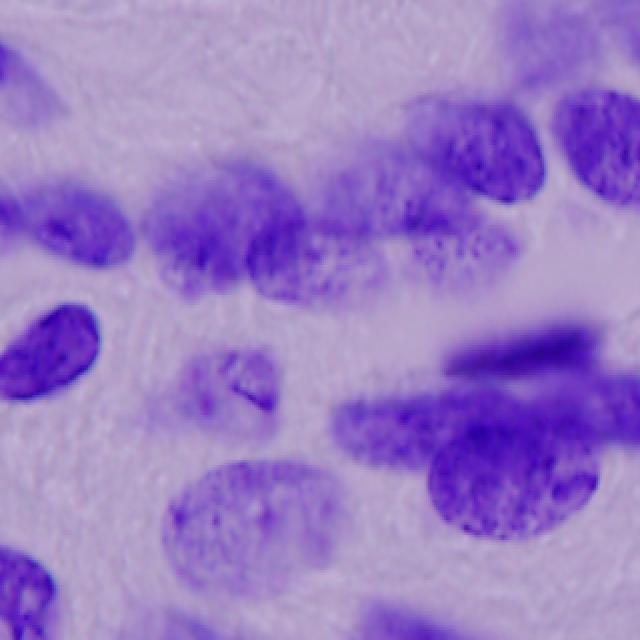cell: (0, 3, 640, 638), (145, 100, 545, 301), (332, 327, 640, 538), (162, 461, 344, 599), (0, 184, 132, 265), (555, 89, 640, 207), (0, 305, 100, 399), (0, 306, 99, 398), (176, 352, 280, 435), (0, 547, 55, 637), (361, 602, 448, 636), (164, 611, 211, 636)
